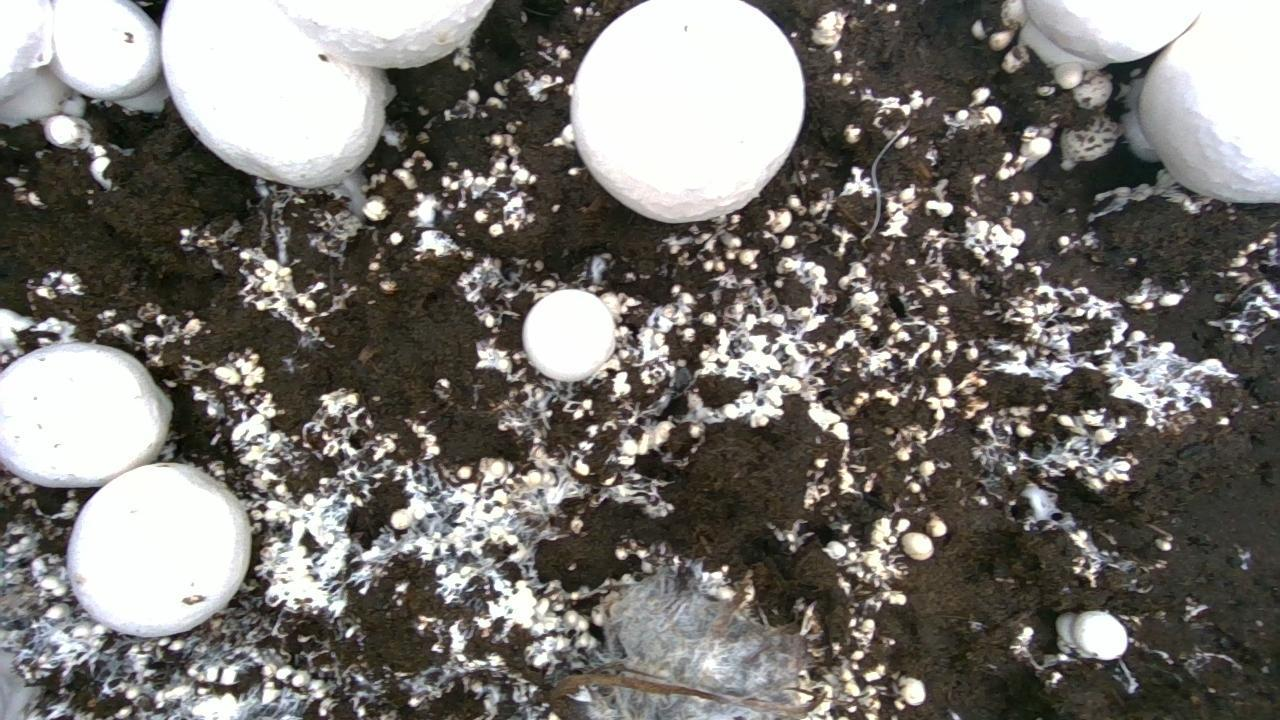WB: (570, 0, 804, 222), (162, 0, 393, 187), (67, 463, 250, 636), (1138, 3, 1279, 202), (0, 342, 172, 487), (278, 0, 492, 68), (1027, 0, 1205, 64), (52, 0, 161, 99), (523, 289, 614, 381), (1056, 611, 1127, 659)
